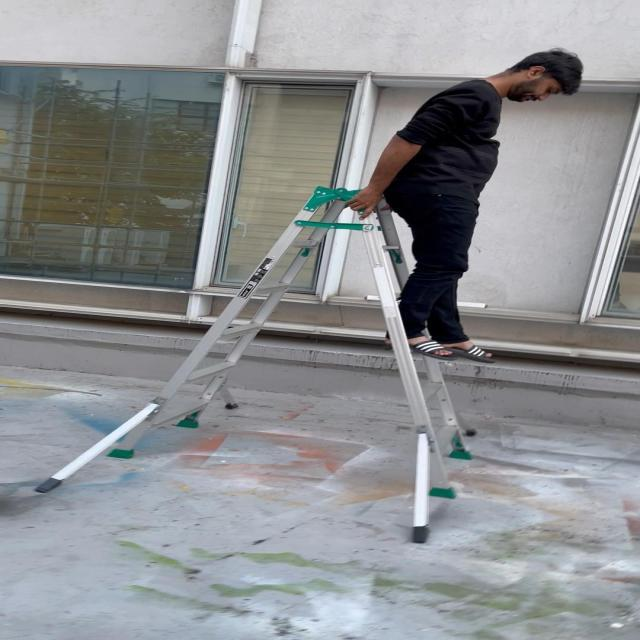boots: (25, 184, 475, 550)
vest: (340, 46, 594, 368)
